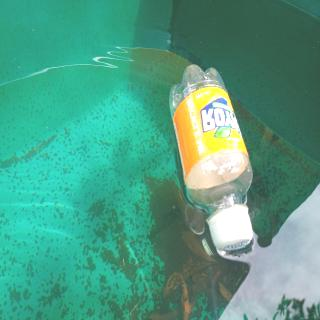bottle: (167, 62, 257, 255)
